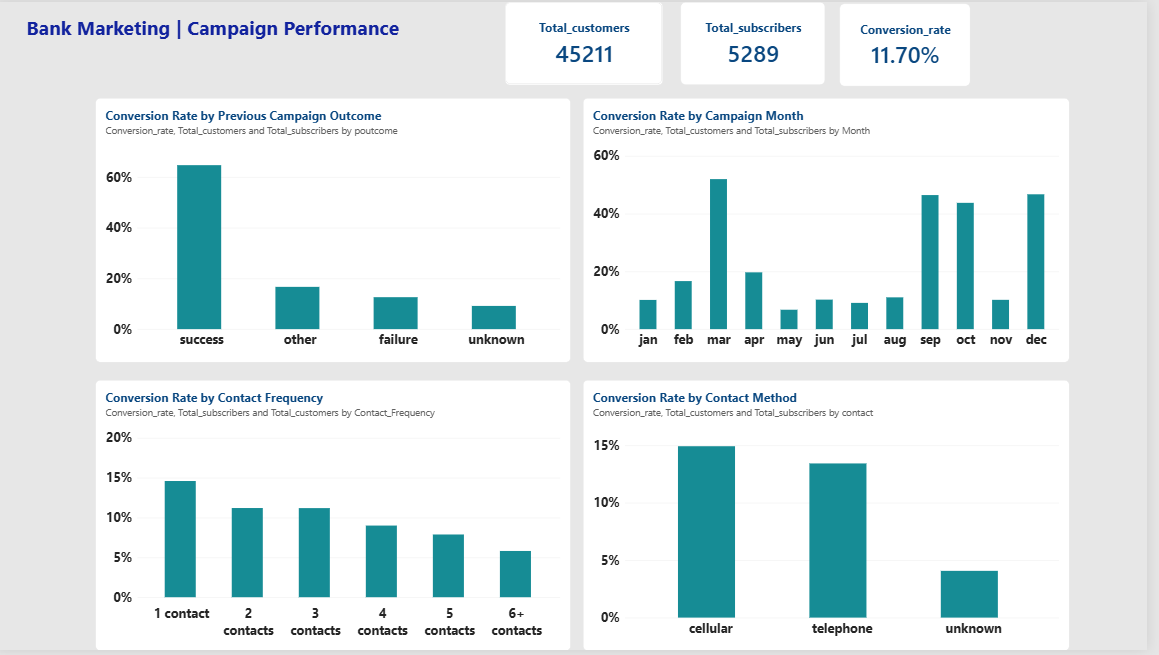

What the dashboard file says about the page in this screenshot:
{"tool":"powerbi","page":{"name":"Campaign Performance","canvas":[1920,1080],"ordinal":0},"visuals":[{"type":"cardVisual","fields":{"Data":["bank_marketing.Total_customers"]},"box":[850,0,263.3,138.3],"z":0},{"type":"cardVisual","fields":{"Data":["bank_marketing.Total_subscribers"]},"box":[1141.7,0,241.7,138.3],"z":1},{"type":"cardVisual","fields":{"Data":["bank_marketing.Conversion_rate"]},"box":[1408.3,1.7,218.3,138.3],"z":2},{"type":"clusteredColumnChart","title":"Conversion Rate by Previous Campaign Outcome","fields":{"Category":["bank_marketing.poutcome"],"Y":["bank_marketing.Conversion_rate"]},"box":[167.6,159.5,791.9,440.5],"z":3},{"type":"clusteredColumnChart","title":"Conversion Rate by Contact Frequency","fields":{"Category":["bank_marketing.Contact_Frequency"],"Y":["bank_marketing.Conversion_rate"]},"box":[167.6,629.7,791.9,451.4],"z":4},{"type":"clusteredColumnChart","title":"Conversion Rate by Campaign Month","fields":{"Category":["Month Table.Month"],"Y":["bank_marketing.Conversion_rate"]},"box":[981.1,159.5,810.8,440.5],"z":5},{"type":"clusteredColumnChart","title":"Conversion Rate by Contact Method","fields":{"Category":["bank_marketing.contact"],"Y":["bank_marketing.Conversion_rate"]},"box":[981.1,629.7,810.8,451.4],"z":6},{"type":"textbox","box":[52.5,20,717.5,92.5],"z":7}]}

Visuals, with their boxes in screenshot pixels (x1, y1, x2, y2), scaled from the page's 1920x1080 canvas onto the 1159x655 screenshot:
cardVisual - bank_marketing.Total_customers: <region>513, 0, 672, 84</region>
cardVisual - bank_marketing.Total_subscribers: <region>689, 0, 835, 84</region>
cardVisual - bank_marketing.Conversion_rate: <region>850, 1, 982, 85</region>
"Conversion Rate by Previous Campaign Outcome" clusteredColumnChart: <region>101, 97, 579, 364</region>
"Conversion Rate by Contact Frequency" clusteredColumnChart: <region>101, 382, 579, 654</region>
"Conversion Rate by Campaign Month" clusteredColumnChart: <region>592, 97, 1082, 364</region>
"Conversion Rate by Contact Method" clusteredColumnChart: <region>592, 382, 1082, 654</region>
textbox: <region>32, 12, 465, 68</region>
